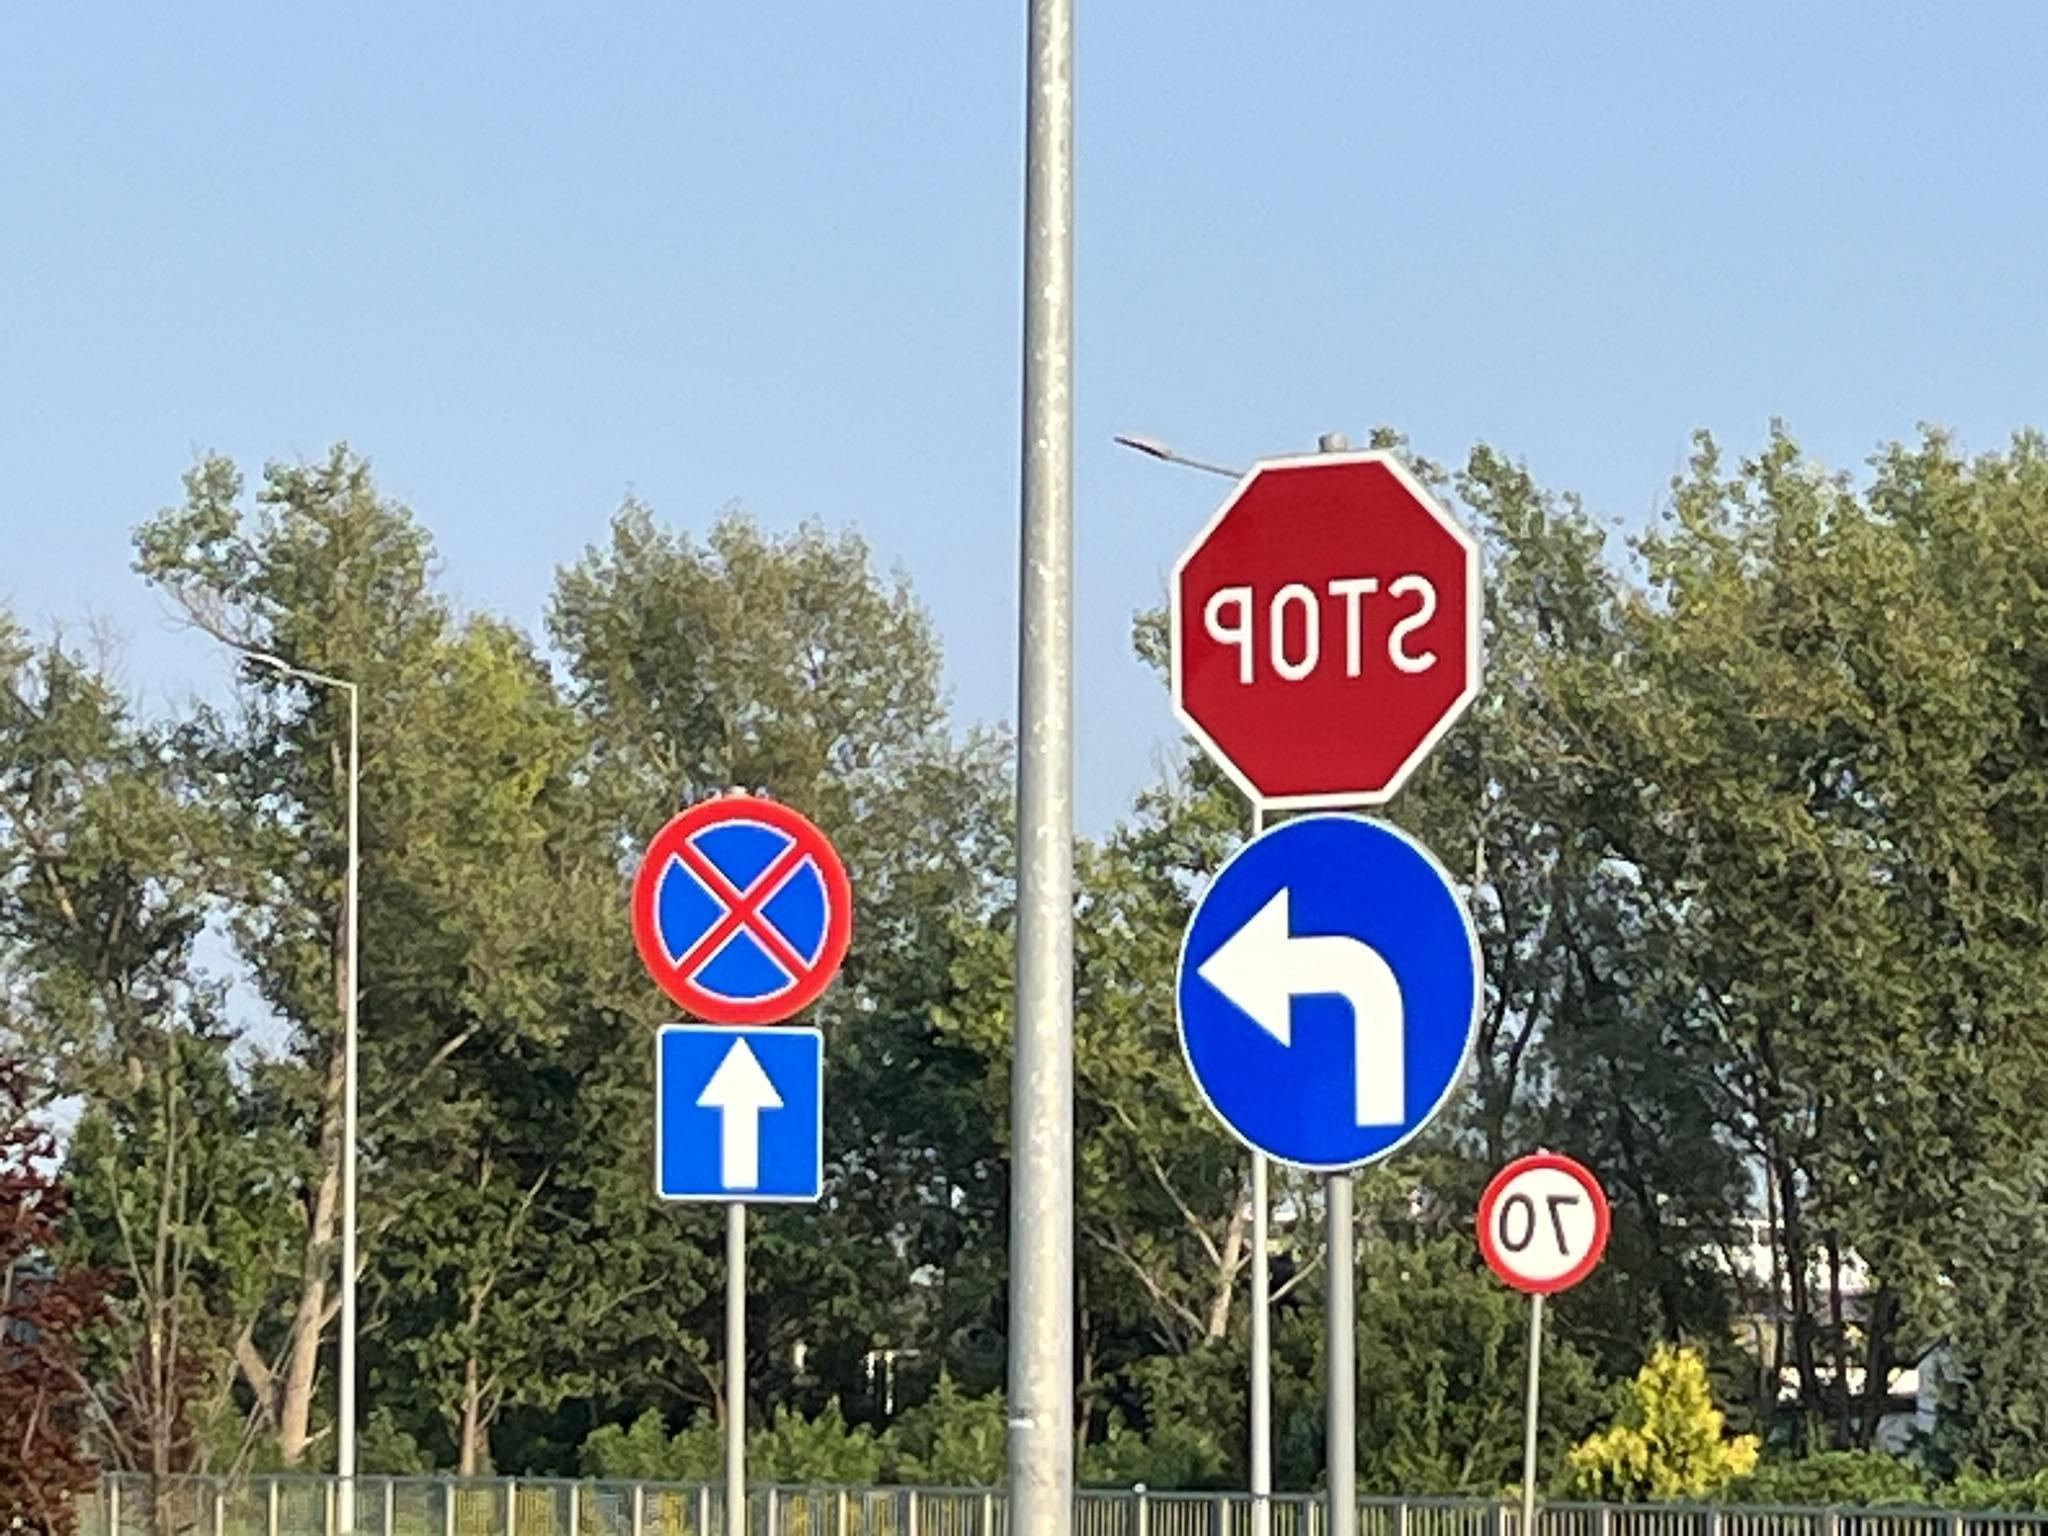information: (655, 1028, 824, 1200)
mandatory: (1168, 812, 1482, 1175)
prohibitory: (1171, 450, 1480, 812), (626, 792, 855, 1025), (1474, 1152, 1613, 1296)
